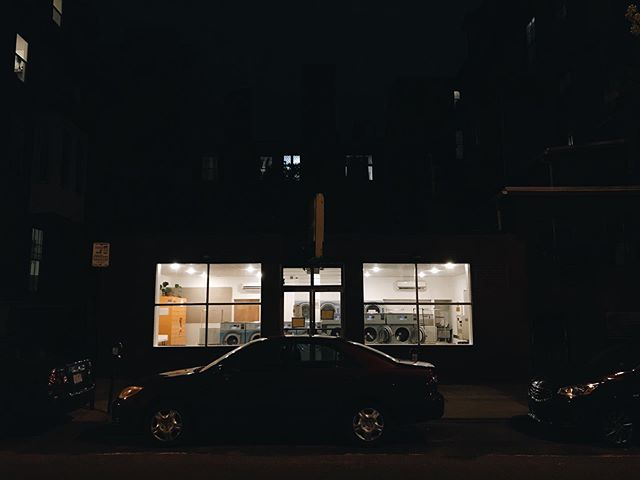car: (105, 335, 451, 441)
door: (285, 283, 346, 338)
window: (357, 256, 474, 346), (152, 260, 269, 350)
